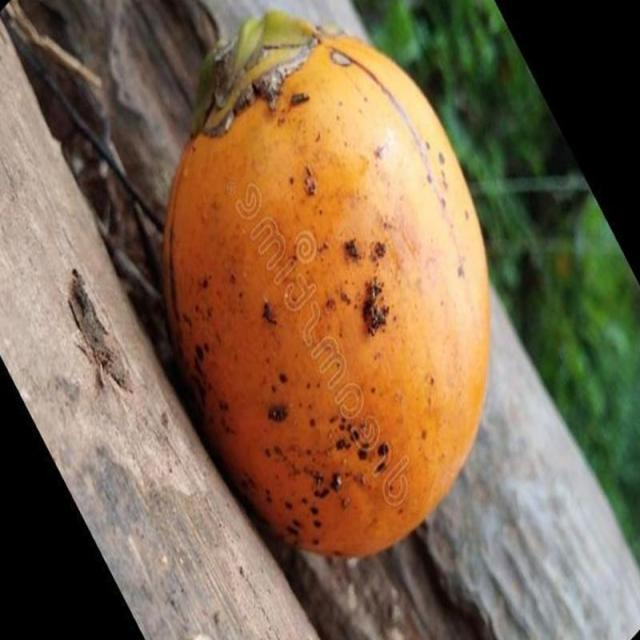good: (160, 12, 493, 561)
